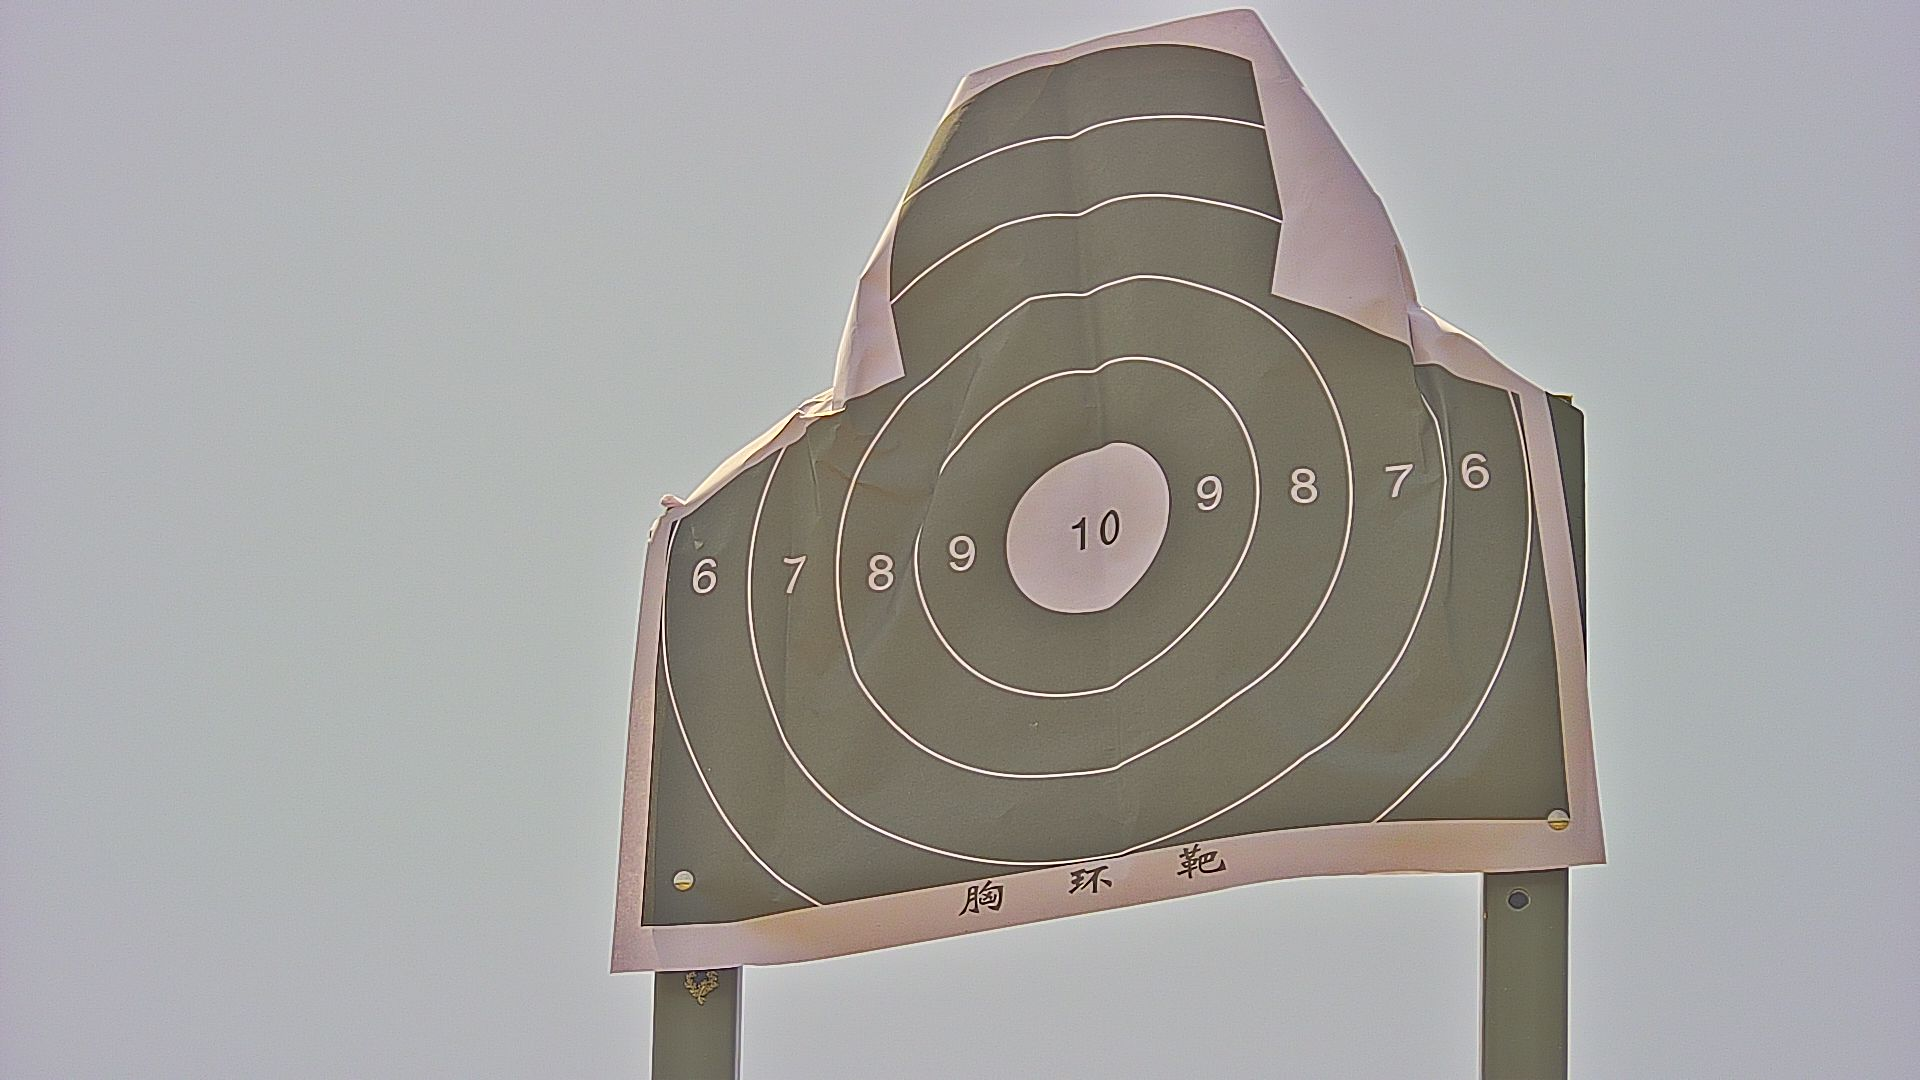kernel: (1091, 530, 1093, 531)
target: (624, 46, 1575, 928)
ten: (1001, 435, 1172, 616)
